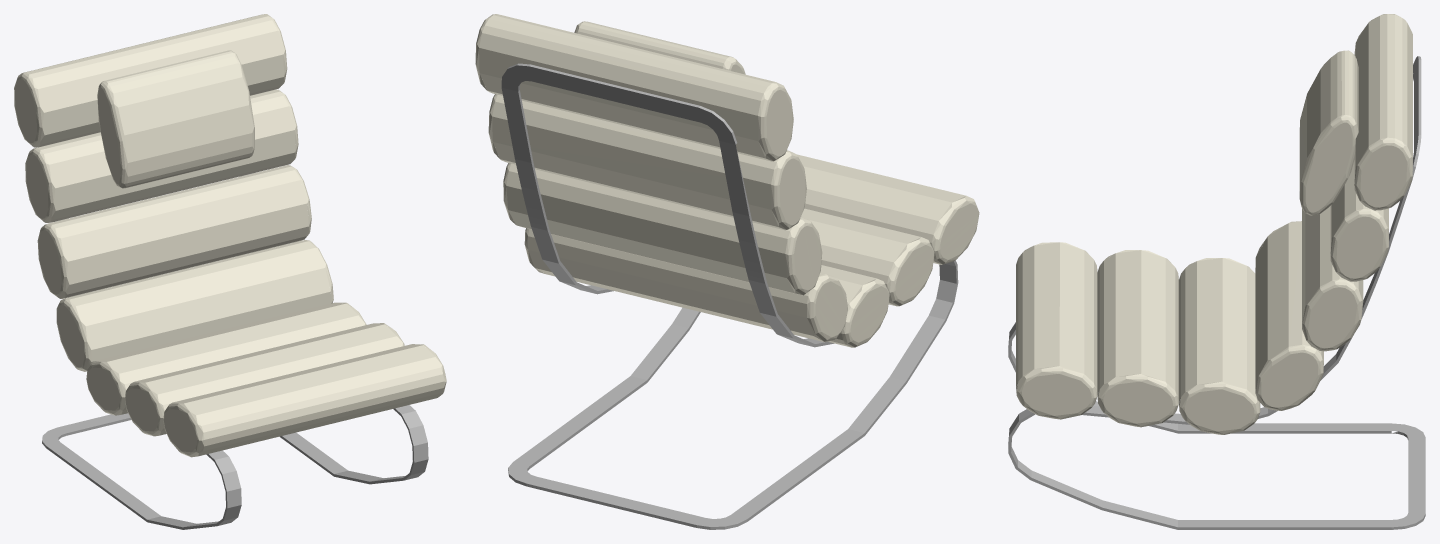
The model's file is Modern Chair.glb.
3 renders of one model, left to right at view 1: azimuth 30°, elevation 25°; view 2: azimuth 150°, elevation 25°; view 3: azimuth 270°, elevation 25°, orthographic. The views are drawn at different scales.
Visible parts, largest first — view 1: Node; view 2: Node; view 3: Node.
Part boxes in pixels (x1,y1,x2,y2): Node: (14, 14, 446, 529); Node: (475, 14, 979, 529); Node: (1008, 14, 1425, 529).
Size of the model in its own units: 26 by 37.91 by 35.67.
